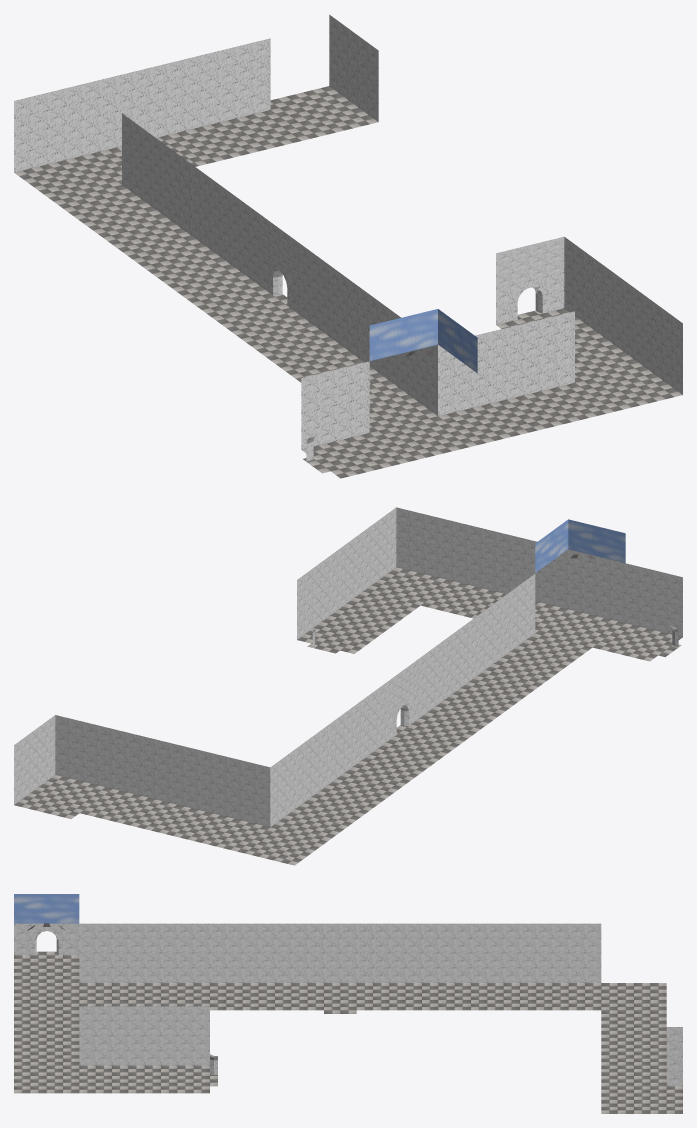
Rendered from Hallway4.glb.
The picture shows the model from 3 angles, top to bottom: view 1: azimuth 30°, elevation 25°; view 2: azimuth 150°, elevation 25°; view 3: azimuth 270°, elevation 25°; orthographic projection. The views are drawn at different scales.
Parts seen in each view (by area): view 1: Walls.003, Floor.003, Sky.003; view 2: Walls.003, Floor.003, Sky.003; view 3: Walls.003, Floor.003, Sky.003.
Part boxes in pixels (x1=…): Walls.003: x1=14, y1=14, x2=682, y2=461; Floor.003: x1=14, y1=86, x2=682, y2=478; Sky.003: x1=369, y1=309, x2=477, y2=373; Walls.003: x1=14, y1=507, x2=682, y2=827; Floor.003: x1=14, y1=567, x2=682, y2=865; Sky.003: x1=535, y1=519, x2=625, y2=572; Walls.003: x1=14, y1=923, x2=682, y2=1086; Floor.003: x1=14, y1=951, x2=682, y2=1113; Sky.003: x1=14, y1=894, x2=79, y2=923.
Bounding box in the file's own units: 23.5 × 6 × 41.01.
Materials: 4 (4 with a texture image).
